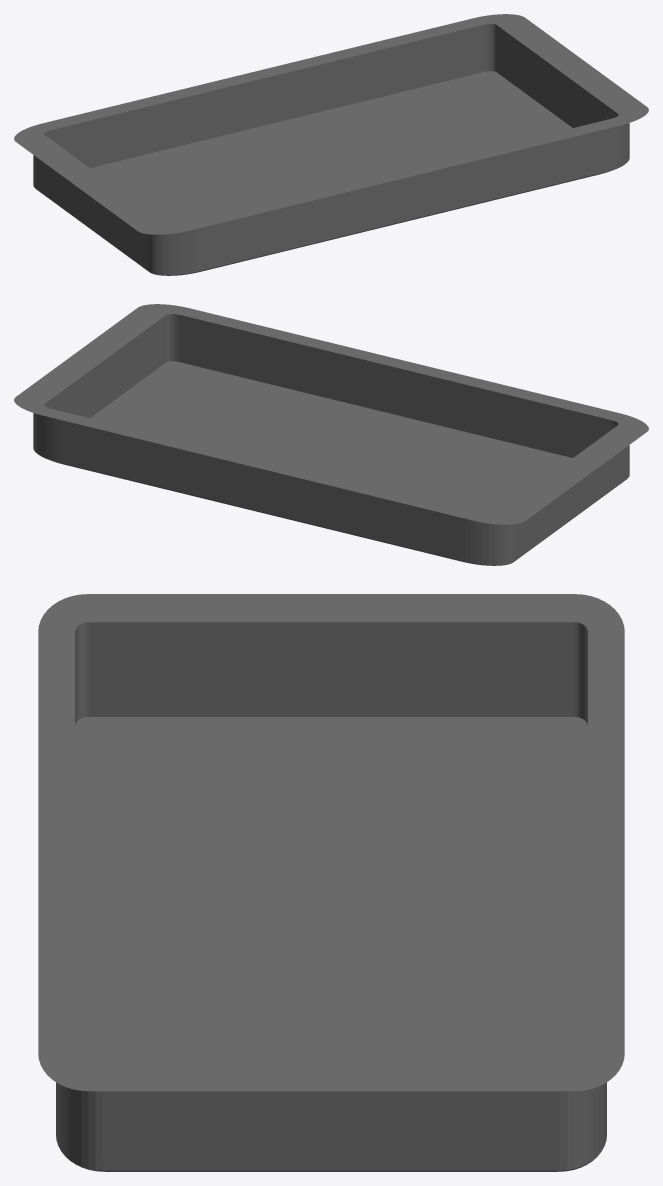
File: metalTray.fbx
The picture shows the model from 3 angles, top to bottom: view 1: azimuth 30°, elevation 25°; view 2: azimuth 150°, elevation 25°; view 3: azimuth 270°, elevation 25°; orthographic projection. The views are drawn at different scales.
Visible parts, largest first — view 1: Куб.034; view 2: Куб.034; view 3: Куб.034.
Part boxes in pixels (box(x1,y1,x2,y2)): Куб.034: box(14, 14, 648, 275); Куб.034: box(14, 304, 648, 565); Куб.034: box(38, 594, 624, 1171).
Bounding box in the file's own units: 187 × 18.41 × 93.5.
